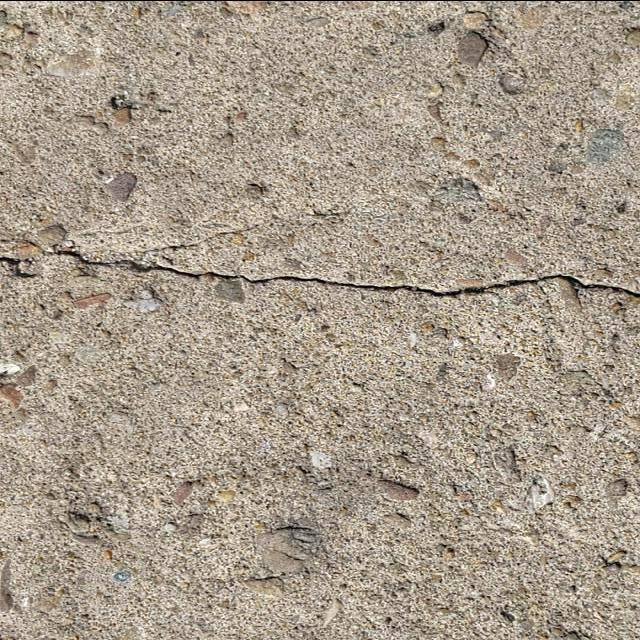SurfaceCrack: (0, 197, 639, 346)
